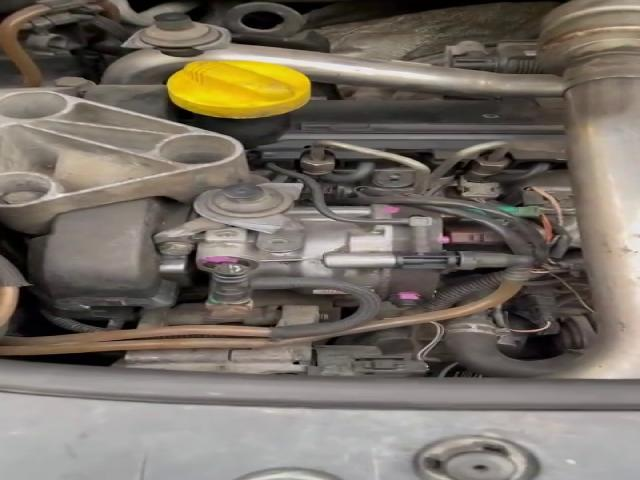alternator: (105, 345, 431, 377)
high_pressure_pump: (193, 202, 459, 309)
